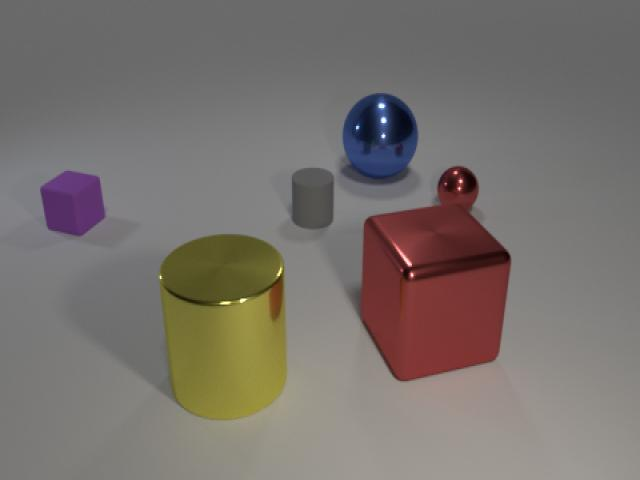cylinder: (147, 227, 302, 427), (284, 164, 338, 232)
round ball: (340, 86, 421, 181), (436, 162, 480, 213)
